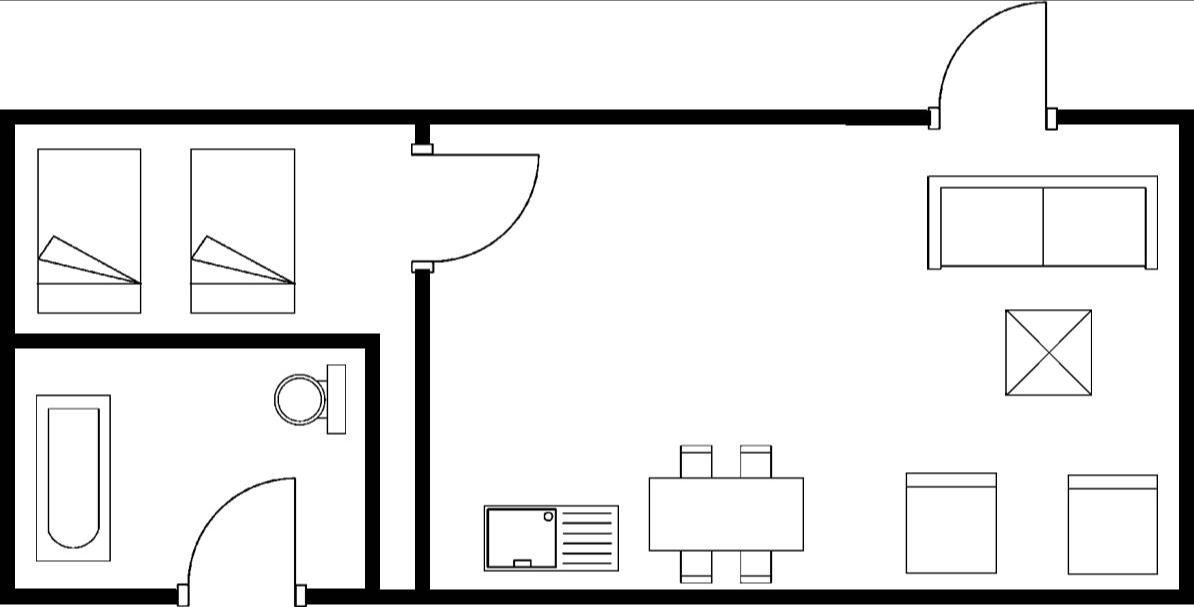bed: (183, 140, 300, 321), (30, 140, 144, 318)
dining_table: (639, 434, 810, 589)
sink: (475, 496, 623, 576)
sofa: (919, 164, 1166, 277)
toilet: (265, 358, 350, 441)
tub: (29, 386, 119, 568)
